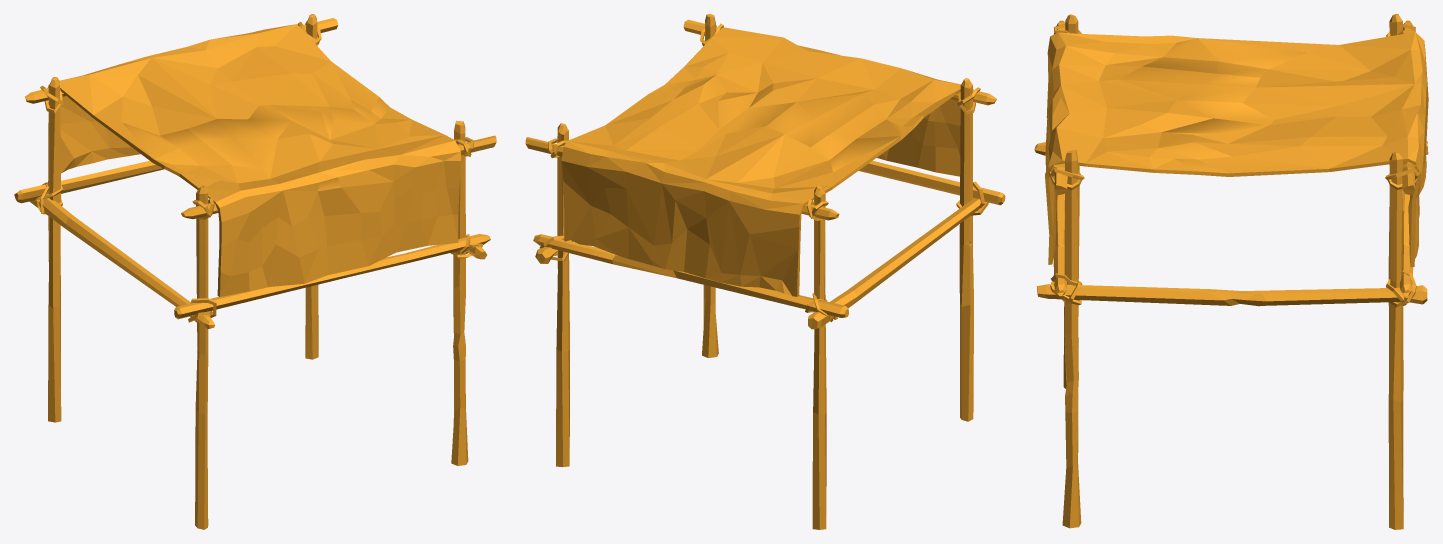
File: SM_Market_Stall_A_Flat_Plain.fbx
3 renders of one model, left to right at view 1: azimuth 30°, elevation 25°; view 2: azimuth 150°, elevation 25°; view 3: azimuth 270°, elevation 25°, orthographic. The views are drawn at different scales.
Parts seen in each view (by area): view 1: market-stall-a-flat-plain; view 2: market-stall-a-flat-plain; view 3: market-stall-a-flat-plain.
Boxes of the visible parts, box(x1,y1,x2,y2) form: market-stall-a-flat-plain: box(14, 14, 496, 529); market-stall-a-flat-plain: box(525, 14, 1005, 529); market-stall-a-flat-plain: box(1034, 14, 1428, 529).
Size of the model in its own units: 3.74 by 3.83 by 3.63.
